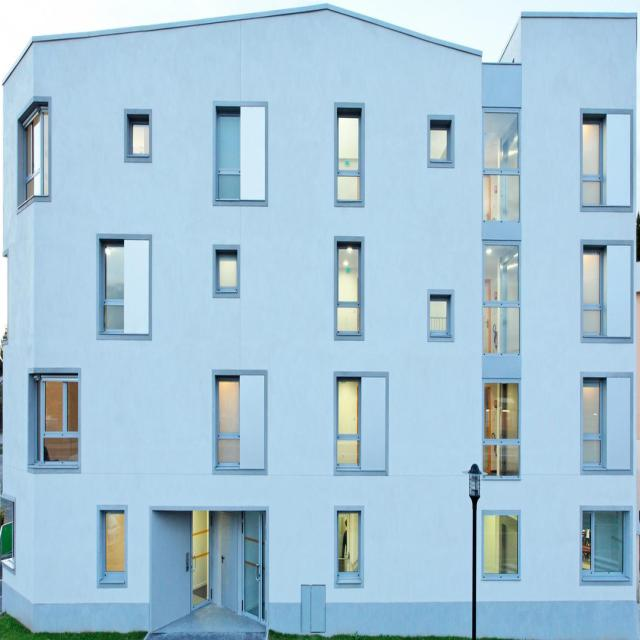door: (239, 510, 265, 624), (189, 509, 210, 609)
wall: (3, 1, 637, 630)
windows: (32, 372, 78, 467), (483, 110, 518, 222), (484, 241, 518, 354), (482, 381, 518, 478), (582, 518, 626, 587), (482, 509, 518, 577), (22, 106, 47, 200), (578, 116, 604, 202), (96, 236, 120, 327), (335, 378, 359, 466), (217, 374, 238, 466), (337, 245, 359, 332), (337, 117, 360, 200), (216, 112, 238, 198), (583, 255, 604, 343), (583, 378, 602, 475), (102, 509, 124, 574), (337, 510, 359, 572), (218, 253, 235, 289), (429, 126, 447, 160), (130, 119, 147, 154), (431, 298, 446, 330)
